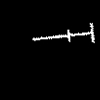double_crochet: (33, 23, 93, 41)
